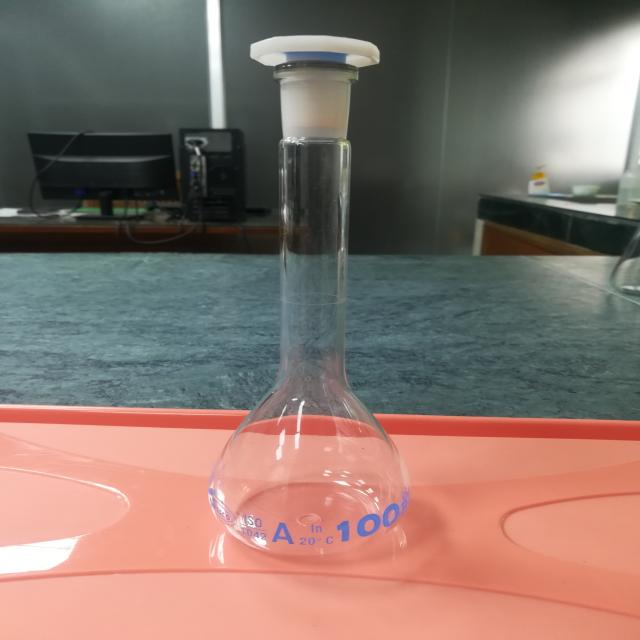Volumetric_Flask: (204, 21, 443, 582)
